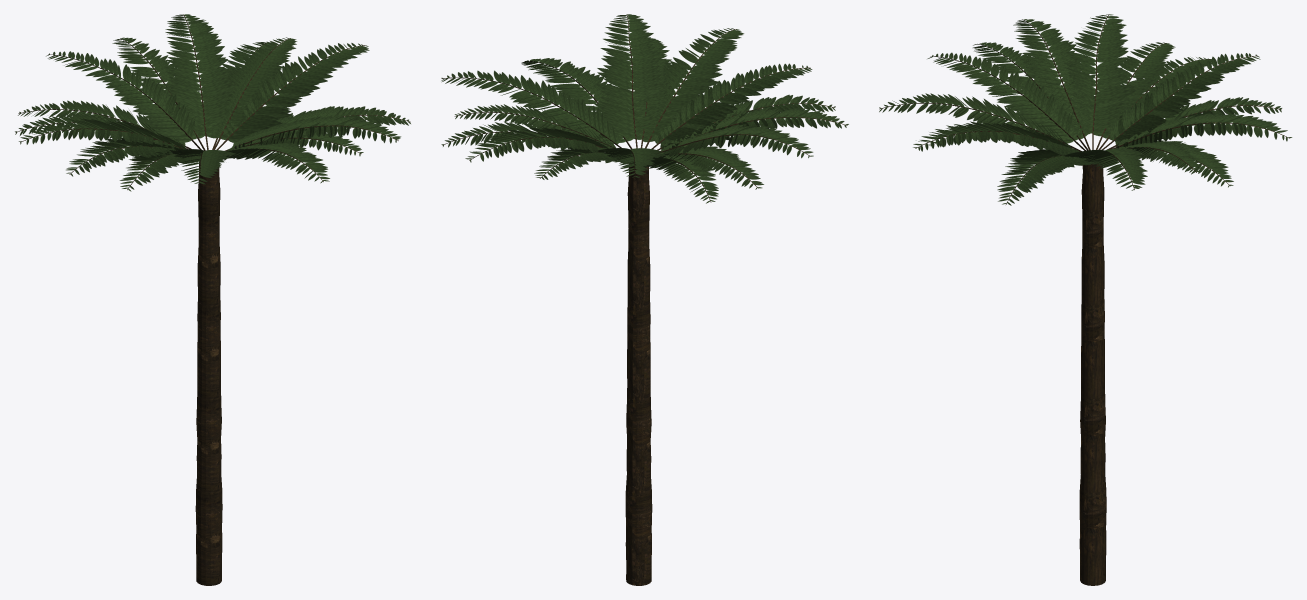
Rendered from tree_fern_v02.glb.
3 views of the same model, side by side, from view 1: azimuth 30°, elevation 25°; view 2: azimuth 150°, elevation 25°; view 3: azimuth 270°, elevation 25° (orthographic).
Parts seen in each view (by area): view 1: tree_fern_v02; view 2: tree_fern_v02; view 3: tree_fern_v02.
Boxes of the visible parts, <box> form: tree_fern_v02: <box>15,14,410,585</box>; tree_fern_v02: <box>441,14,848,585</box>; tree_fern_v02: <box>879,14,1292,585</box>.
Size of the model in its own units: 3.39 by 4.37 by 3.36.
2 materials, 2 textured.
